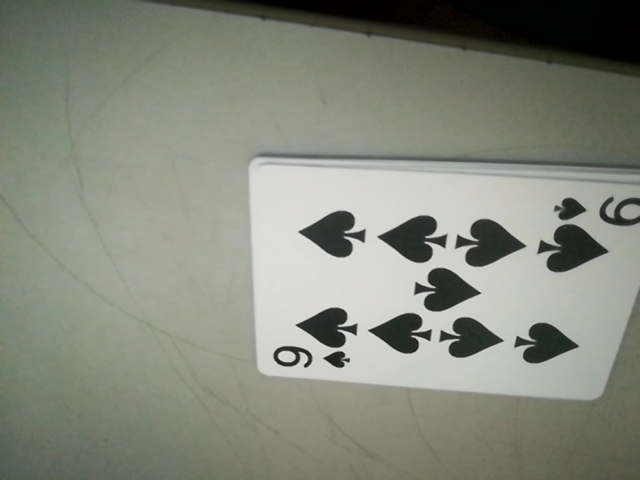ht 9: (549, 192, 640, 227), (264, 343, 355, 377)
